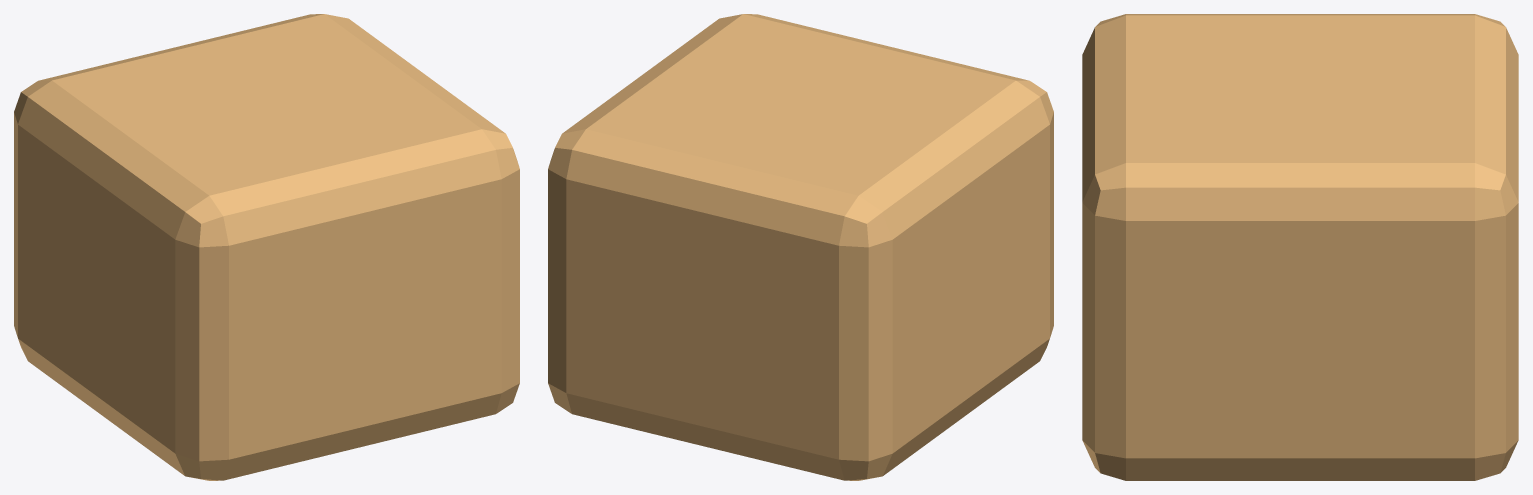
File: resource_stone.glb
3 renders of one model, left to right at view 1: azimuth 30°, elevation 25°; view 2: azimuth 150°, elevation 25°; view 3: azimuth 270°, elevation 25°, orthographic. The views are drawn at different scales.
Parts seen in each view (by area): view 1: resource_stone; view 2: resource_stone; view 3: resource_stone.
Part boxes in pixels (bbox=[...]): resource_stone: bbox=[14, 14, 519, 480]; resource_stone: bbox=[548, 14, 1053, 480]; resource_stone: bbox=[1082, 14, 1518, 480].
Bounding box in the file's own units: 0.5 × 0.4 × 0.5.
